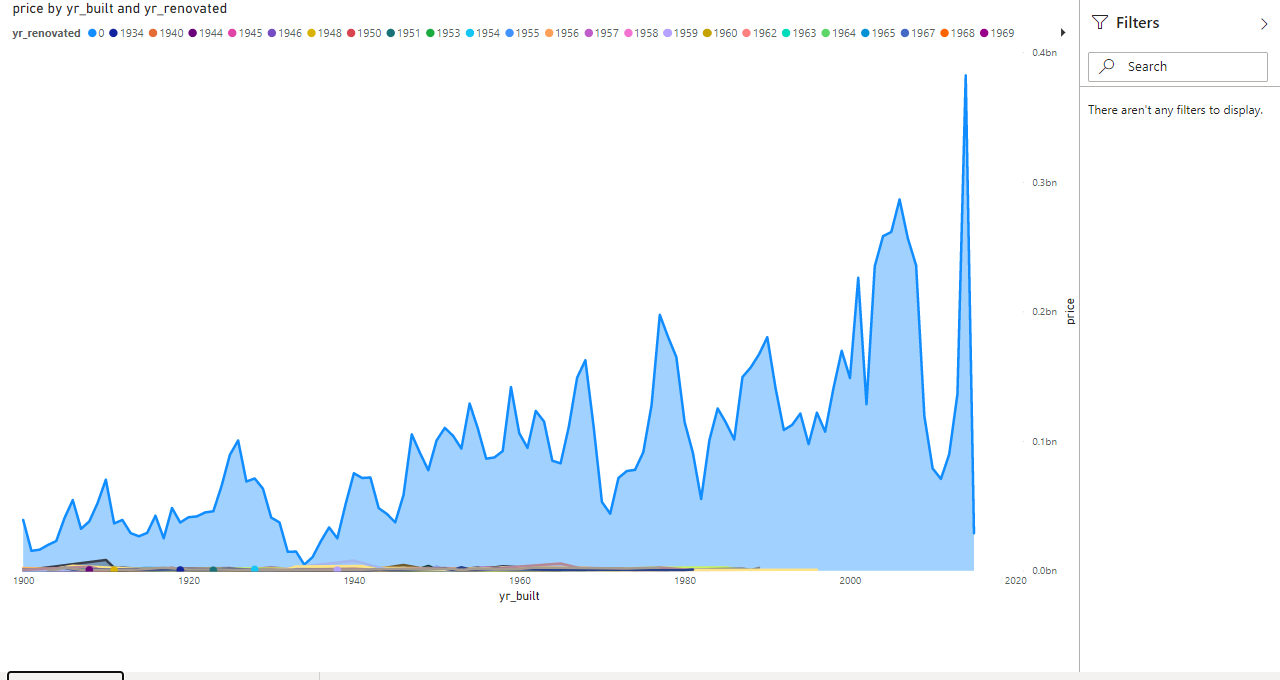

Layout of this report page (visuals, bound fields, positions):
{"tool":"powerbi","page":{"name":"Halaman 1","canvas":[1280,720],"ordinal":0},"visuals":[{"type":"areaChart","fields":{"Category":["Worksheet.yr_built"],"Y2":["Sum(Worksheet.price)"],"Series":["Worksheet.yr_renovated"]},"box":[9.5,0,1270.5,719.5],"z":0}]}

Visuals, with their boxes on the page's 1280x720 design canvas (x1, y1, x2, y2). These are canvas units, not pixel positions in the 1280x680 screenshot, which may show the page scaled, cropped or inside an application window:
areaChart - Worksheet.yr_built x Sum(Worksheet.price): <box>10,0,1280,720</box>
